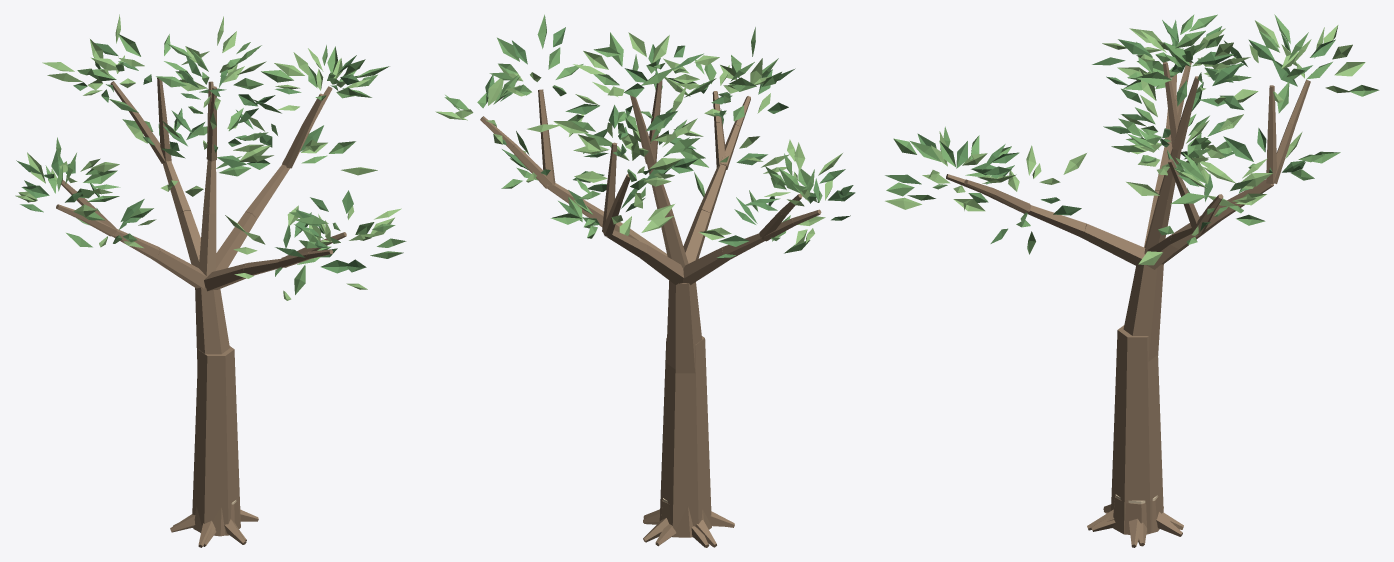
File: plant-broadleaf-a_lod1.glb
The picture shows the model from 3 angles, left to right: view 1: azimuth 30°, elevation 25°; view 2: azimuth 150°, elevation 25°; view 3: azimuth 270°, elevation 25°; orthographic projection. The views are drawn at different scales.
Visible parts, largest first — view 1: plant-broadleaf-a_standing_bark, plant-broadleaf-a_standing_leafA, plant-broadleaf-a_standing_leafB, plant-broadleaf-a_standing_leafDark, plant-broadleaf-a_stump_bark; view 2: plant-broadleaf-a_standing_bark, plant-broadleaf-a_standing_leafB, plant-broadleaf-a_standing_leafA, plant-broadleaf-a_standing_leafDark, plant-broadleaf-a_stump_bark; view 3: plant-broadleaf-a_standing_bark, plant-broadleaf-a_standing_leafA, plant-broadleaf-a_standing_leafB, plant-broadleaf-a_standing_leafDark, plant-broadleaf-a_stump_bark.
Part boxes in pixels (box(x1,y1,x2,y2)): plant-broadleaf-a_standing_bark: box(56, 78, 346, 547); plant-broadleaf-a_standing_leafA: box(45, 34, 406, 294); plant-broadleaf-a_standing_leafB: box(15, 14, 401, 300); plant-broadleaf-a_standing_leafDark: box(16, 43, 366, 276); plant-broadleaf-a_stump_bark: box(173, 501, 246, 546); plant-broadleaf-a_standing_bark: box(480, 80, 821, 547); plant-broadleaf-a_standing_leafB: box(435, 32, 842, 244); plant-broadleaf-a_standing_leafA: box(444, 14, 822, 253); plant-broadleaf-a_standing_leafDark: box(485, 27, 855, 258); plant-broadleaf-a_stump_bark: box(643, 500, 725, 547); plant-broadleaf-a_standing_bark: box(946, 62, 1310, 547); plant-broadleaf-a_standing_leafA: box(886, 14, 1379, 254); plant-broadleaf-a_standing_leafB: box(885, 20, 1365, 265); plant-broadleaf-a_standing_leafDark: box(885, 20, 1335, 243); plant-broadleaf-a_stump_bark: box(1091, 496, 1183, 546).
Size of the model in its own units: 5.24 by 6.33 by 5.55.
